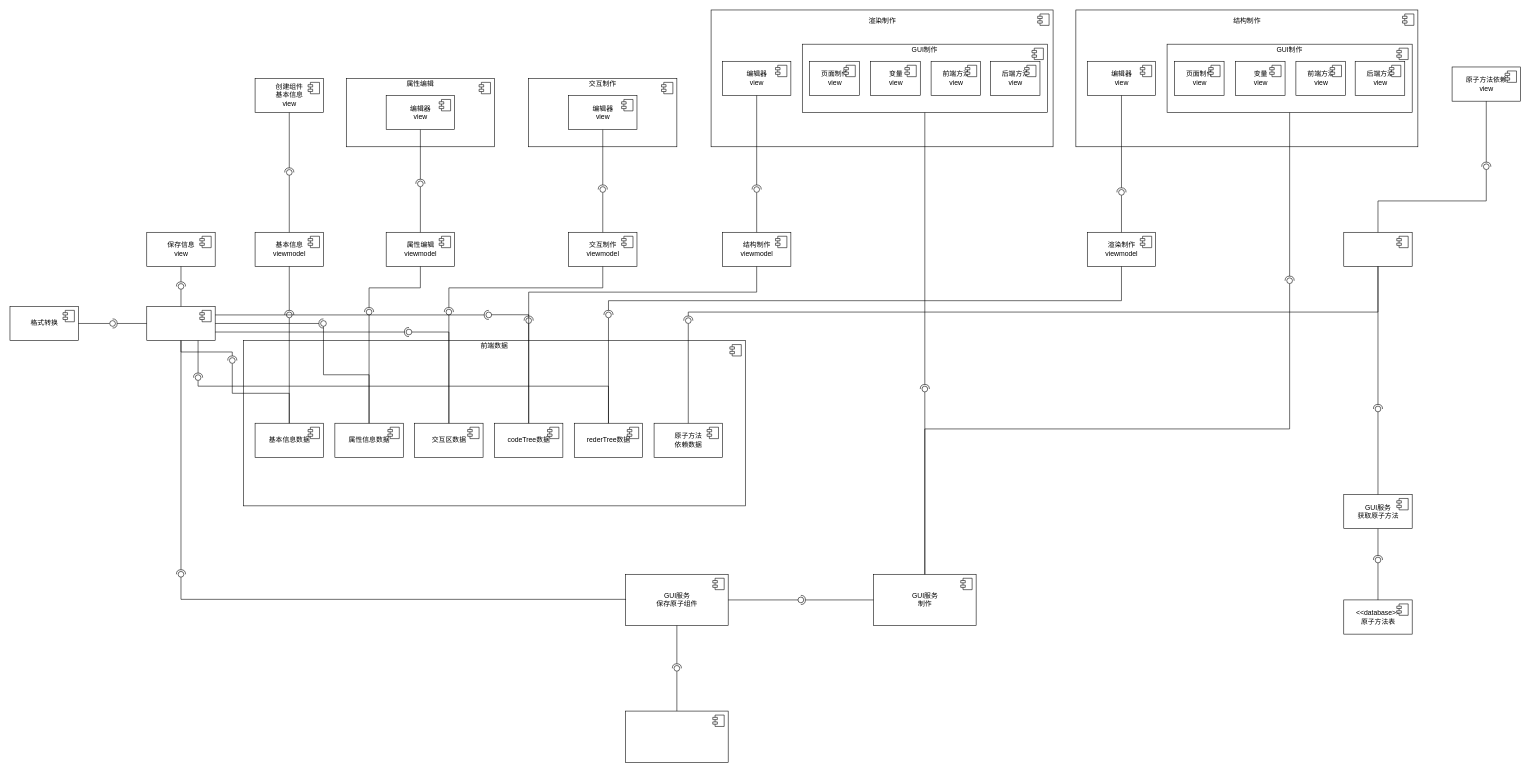
The diagram is 1530 pixels wide and 772 high, and some of its shapes have lost their labels. The centre of each missing label's shape, as x and y in pixels:
"<<database>> edit_page" belongs at (676,736).
"保存信息 viewmodel" belongs at (180,323).
"原子方法依赖 viewmodel" belongs at (1377,249).
